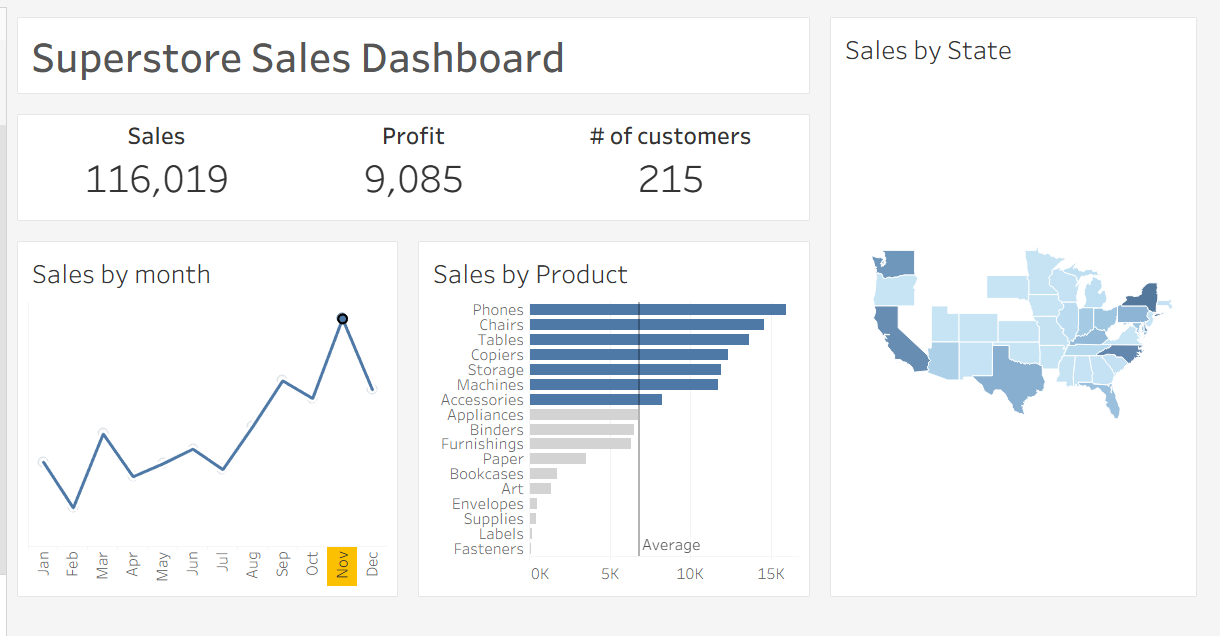

The page's visual inventory and layout, read from the dashboard file:
{"tool":"tableau","page":{"name":"Dashboard 1","canvas":[1200,600],"ordinal":0},"visuals":[{"type":"text","box":[0,0,813,97]},{"type":"worksheet","title":"Sales by State","mark":"Automatic","box":[813,0,387,600]},{"type":"worksheet","title":"KPI ","mark":"Automatic","box":[0,97,813,127]},{"type":"worksheet","title":"Sales by Month","mark":"Automatic","rows":["Sales","Sales"],"cols":["Order Date"],"box":[0,224,400.9,375.9]},{"type":"worksheet","title":"Sales by Product","mark":"Automatic","rows":["Sub-Category"],"cols":["Sales"],"box":[400.9,224,412,375.9]}]}

Visuals, with their boxes on the page's 1200x600 design canvas (x1, y1, x2, y2). These are canvas units, not pixel positions in the 1220x636 screenshot, which may show the page scaled, cropped or inside an application window:
text: x1=0 y1=0 x2=813 y2=97
"Sales by State" worksheet: x1=813 y1=0 x2=1200 y2=600
"KPI " worksheet: x1=0 y1=97 x2=813 y2=224
"Sales by Month" worksheet: x1=0 y1=224 x2=401 y2=600
"Sales by Product" worksheet: x1=401 y1=224 x2=813 y2=600
